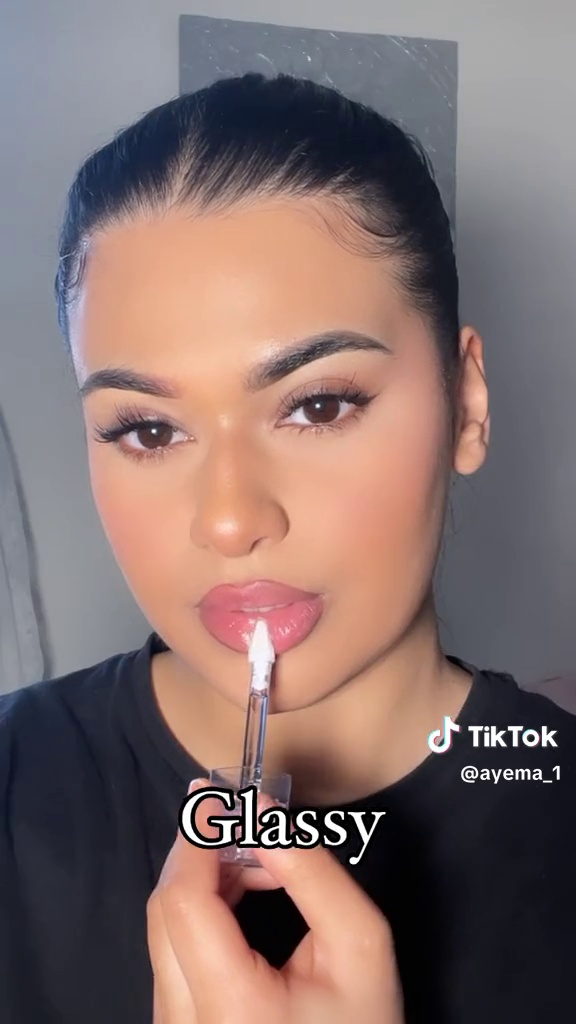train' :'yolo_data/train/images',: (190, 613, 304, 877)
